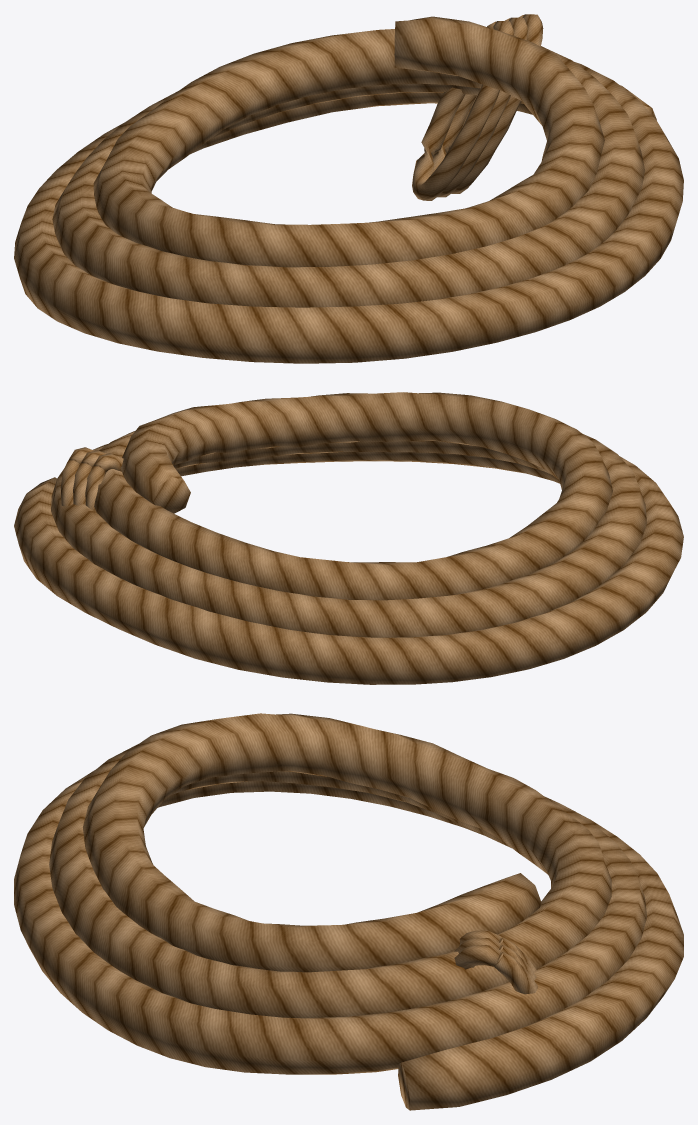
File: rope.glb
The picture shows the model from 3 angles, top to bottom: view 1: azimuth 30°, elevation 25°; view 2: azimuth 150°, elevation 25°; view 3: azimuth 270°, elevation 25°; orthographic projection. The views are drawn at different scales.
Visible parts, largest first — view 1: rope; view 2: rope; view 3: rope.
Part boxes in pixels (<box>): rope: <box>14,14,683,363</box>; rope: <box>14,392,683,684</box>; rope: <box>14,713,683,1110</box>.
Bounding box in the file's own units: 0.2347 × 0.0629 × 0.1983.
1 material, 1 textured.
